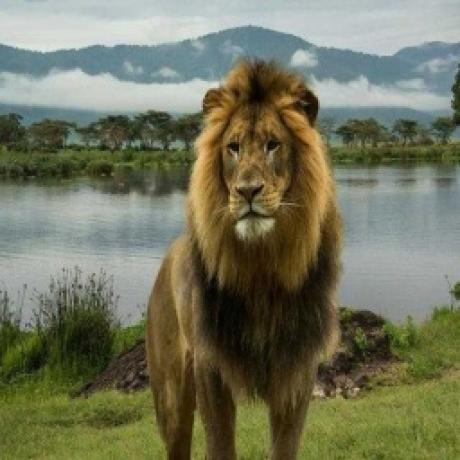Lion: (149, 56, 342, 460)
